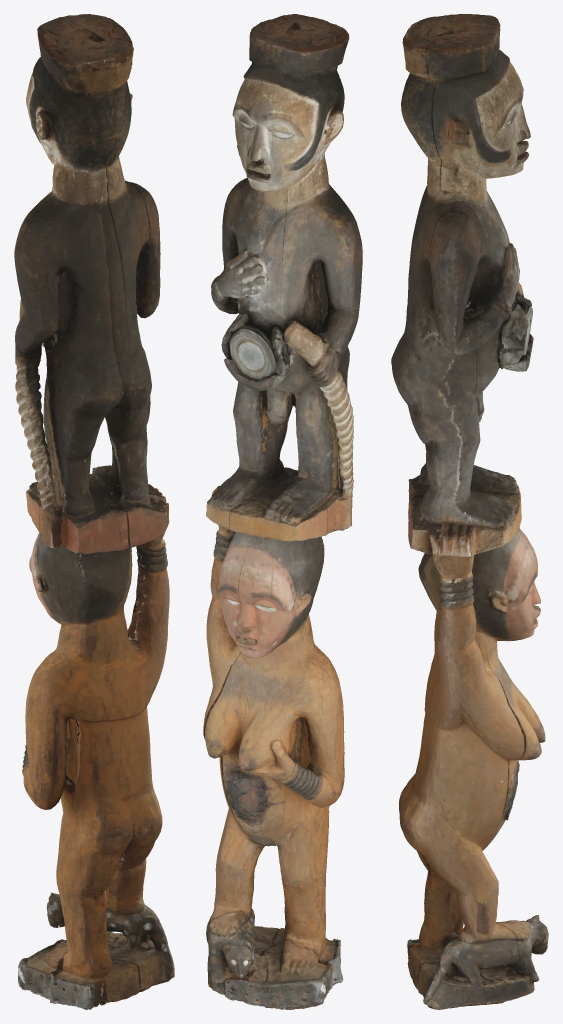
Rendered from preview.glb.
3 renders of one model, left to right at view 1: azimuth 30°, elevation 25°; view 2: azimuth 150°, elevation 25°; view 3: azimuth 270°, elevation 25°, orthographic.
Visible parts, largest first — view 1: Mother.001_material0.001_0, Mother.001_material0_0; view 2: Mother.001_material0.001_0, Mother.001_material0_0; view 3: Mother.001_material0.001_0, Mother.001_material0_0.
Boxes of the visible parts, x1,y1,x2,y2 form: Mother.001_material0.001_0: [14, 14, 168, 554]; Mother.001_material0_0: [18, 519, 174, 1009]; Mother.001_material0.001_0: [206, 14, 362, 541]; Mother.001_material0_0: [203, 525, 344, 1009]; Mother.001_material0.001_0: [391, 14, 533, 556]; Mother.001_material0_0: [399, 528, 548, 1009].
Size of the model in its own units: 835 by 5214 by 778.
Materials: 2 (2 with a texture image).
